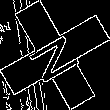N_NE: (23, 25, 87, 85)
